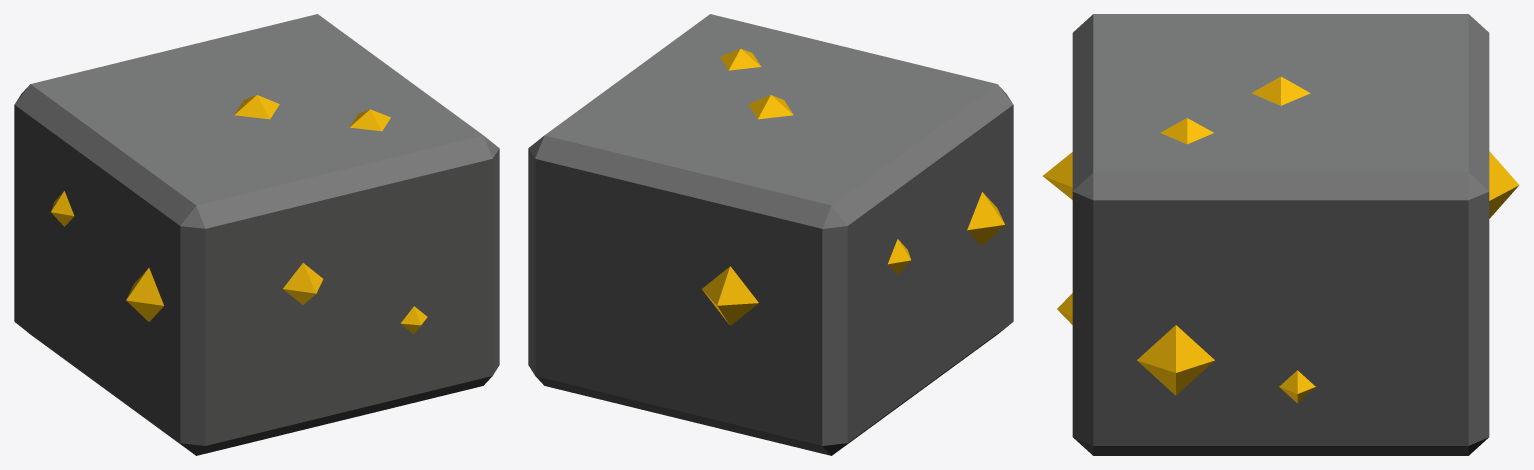
Rendered from m_kub_ore_cubeMid.FBX.
3 views of the same model, side by side, from view 1: azimuth 30°, elevation 25°; view 2: azimuth 150°, elevation 25°; view 3: azimuth 270°, elevation 25° (orthographic). The views are drawn at different scales.
Parts seen in each view (by area): view 1: m_kub_ore_cubeMid; view 2: m_kub_ore_cubeMid; view 3: m_kub_ore_cubeMid.
Boxes of the visible parts, bbox=[...] form: m_kub_ore_cubeMid: bbox=[14, 14, 499, 455]; m_kub_ore_cubeMid: bbox=[528, 14, 1013, 455]; m_kub_ore_cubeMid: bbox=[1043, 14, 1519, 455].
Bounding box in the file's own units: 2.29 × 1.59 × 2.29.
